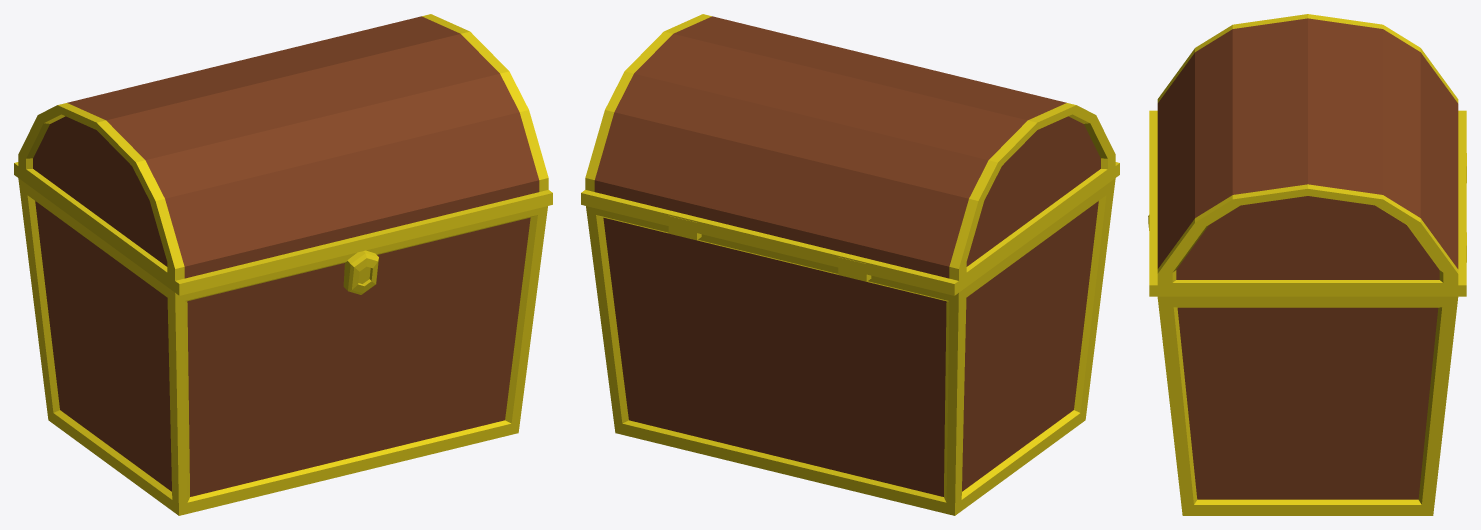
File: Chest.fbx
3 views of the same model, side by side, from view 1: azimuth 30°, elevation 25°; view 2: azimuth 150°, elevation 25°; view 3: azimuth 270°, elevation 25° (orthographic). The views are drawn at different scales.
Visible parts, largest first — view 1: Chest, Chest Lid; view 2: Chest, Chest Lid; view 3: Chest Lid, Chest.
Boxes of the visible parts, box(x1,y1,x2,y2) form: Chest: box(18, 178, 547, 515); Chest Lid: box(14, 14, 552, 295); Chest: box(586, 178, 1115, 515); Chest Lid: box(581, 14, 1119, 295); Chest Lid: box(1149, 14, 1466, 296); Chest: box(1148, 153, 1466, 515).
Bounding box in the file's own units: 66 × 59.02 × 50.87.
